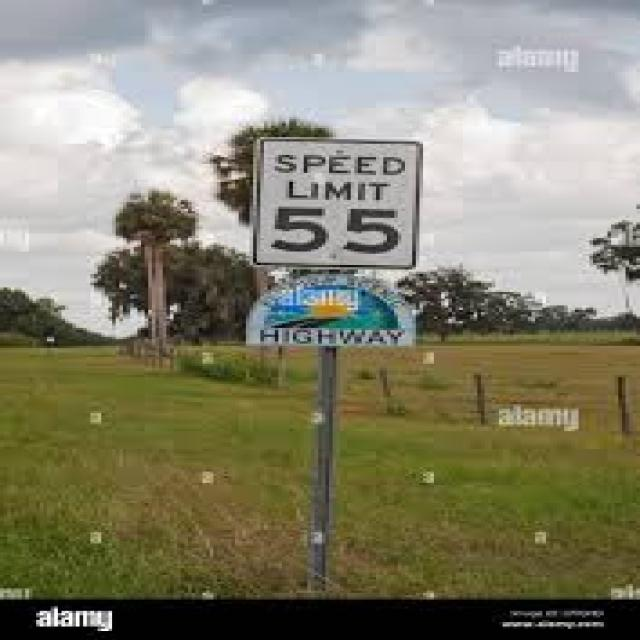speedLimit55: (251, 126, 425, 285)
